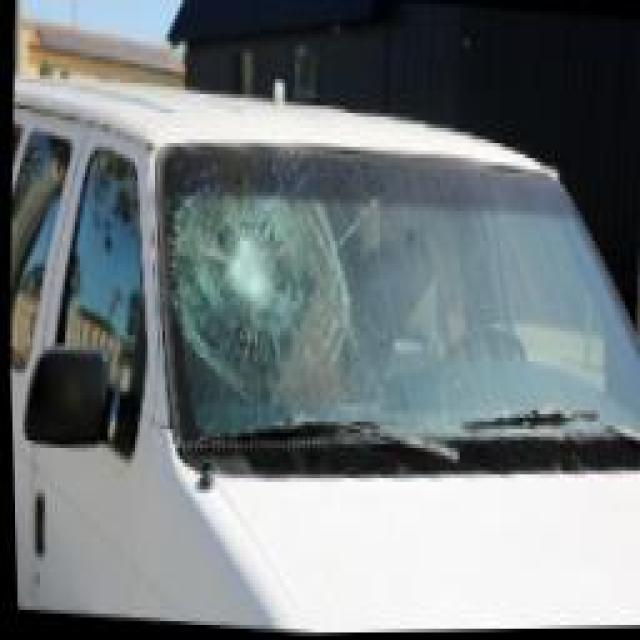Windshield: (158, 147, 640, 444)
